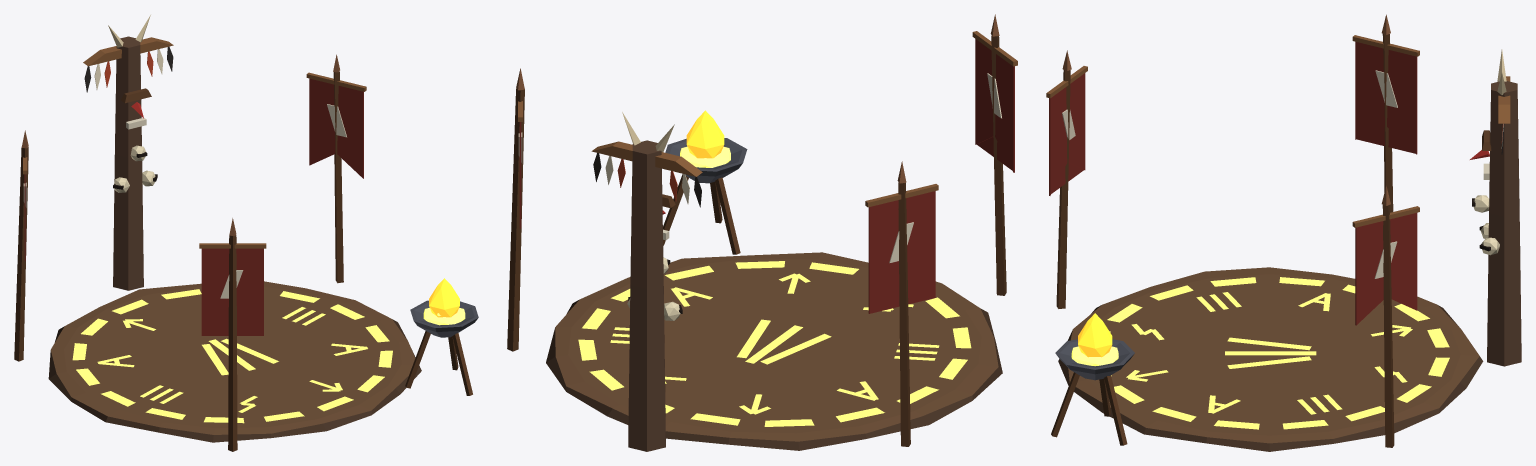
The model's file is Forest_Trommelplatz.fbx.
3 views of the same model, side by side, from view 1: azimuth 30°, elevation 25°; view 2: azimuth 150°, elevation 25°; view 3: azimuth 270°, elevation 25° (orthographic). The views are drawn at different scales.
Parts seen in each view (by area): view 1: Ritual_Base, Ritual_Runes, Ritual_Fire; view 2: Ritual_Base, Ritual_Runes, Ritual_Fire; view 3: Ritual_Base, Ritual_Runes, Ritual_Fire.
Part boxes in pixels (x1,y1,x2,y2): Ritual_Base: (14,15,478,451); Ritual_Runes: (72,289,392,423); Ritual_Fire: (423,278,465,325); Ritual_Base: (507,14,1017,451); Ritual_Runes: (578,261,971,426); Ritual_Fire: (680,110,730,167); Ritual_Base: (1046,14,1521,451); Ritual_Runes: (1107,277,1449,429); Ritual_Fire: (1071,313,1118,366).
Size of the model in its own units: 3.8 by 2.83 by 4.05.
